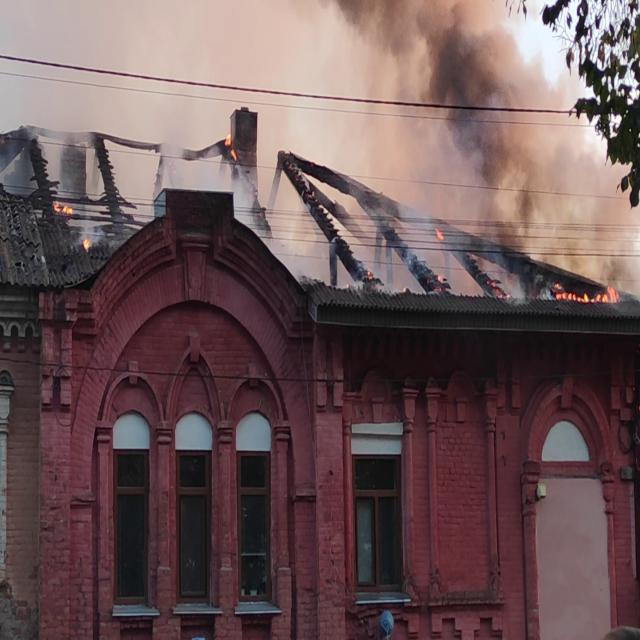fire: (545, 240, 624, 308)
smoke: (374, 0, 569, 235)
